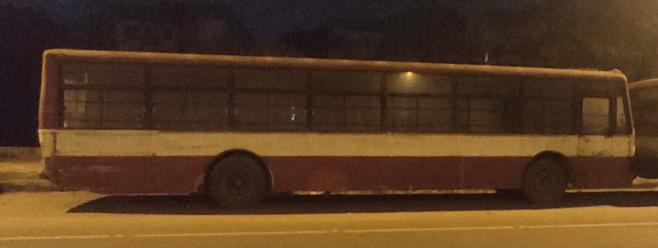Bus: (36, 50, 638, 205)
